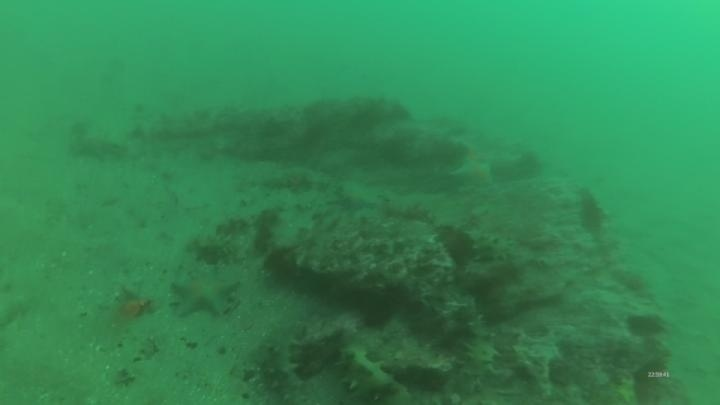echinus: (357, 294, 396, 331)
holothurian: (256, 320, 335, 403), (333, 340, 406, 403), (457, 306, 500, 392), (462, 227, 518, 266), (185, 230, 242, 267)
starfish: (168, 267, 242, 321), (68, 130, 126, 164), (450, 154, 498, 191), (333, 180, 380, 216)
